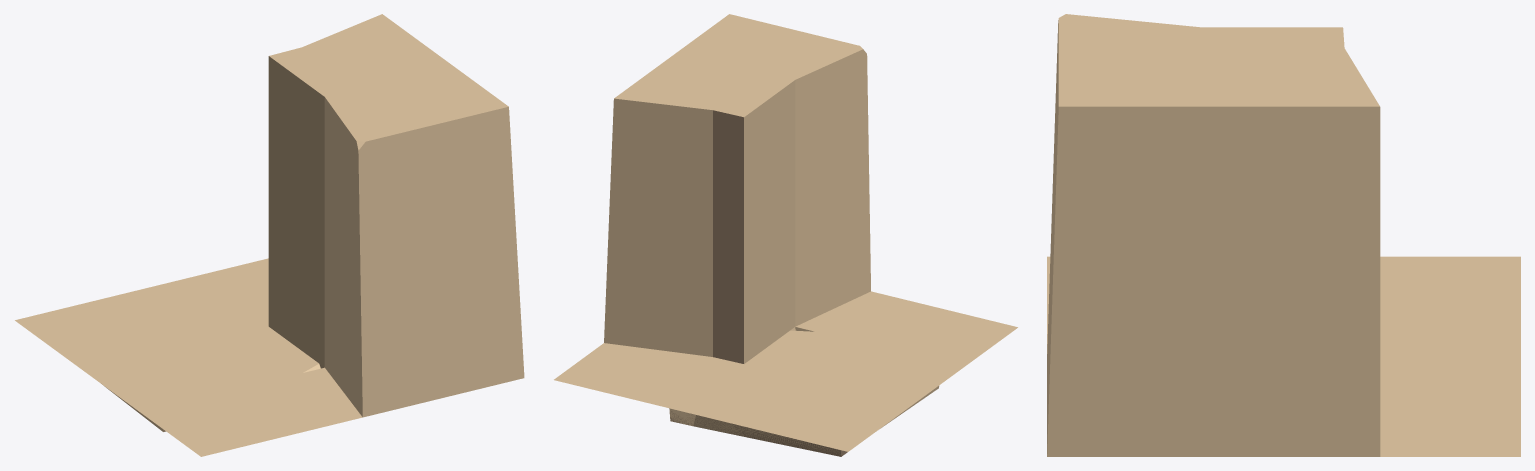
The model's file is FloorPlatform.fbx.
The picture shows the model from 3 angles, left to right: view 1: azimuth 30°, elevation 25°; view 2: azimuth 150°, elevation 25°; view 3: azimuth 270°, elevation 25°; orthographic projection. The views are drawn at different scales.
Visible parts, largest first — view 1: FloorPlatform, FloorPlatformPlatform; view 2: FloorPlatform, FloorPlatformPlatform; view 3: FloorPlatform, FloorPlatformPlatform.
Part boxes in pixels (<box>): FloorPlatform: <box>15,14,524,456</box>; FloorPlatformPlatform: <box>55,279,320,431</box>; FloorPlatform: <box>554,14,1017,455</box>; FloorPlatformPlatform: <box>669,330,942,456</box>; FloorPlatform: <box>1047,14,1520,456</box>; FloorPlatformPlatform: <box>1380,271,1482,390</box>.
Size of the model in its own units: 5 by 4.4 by 5.
